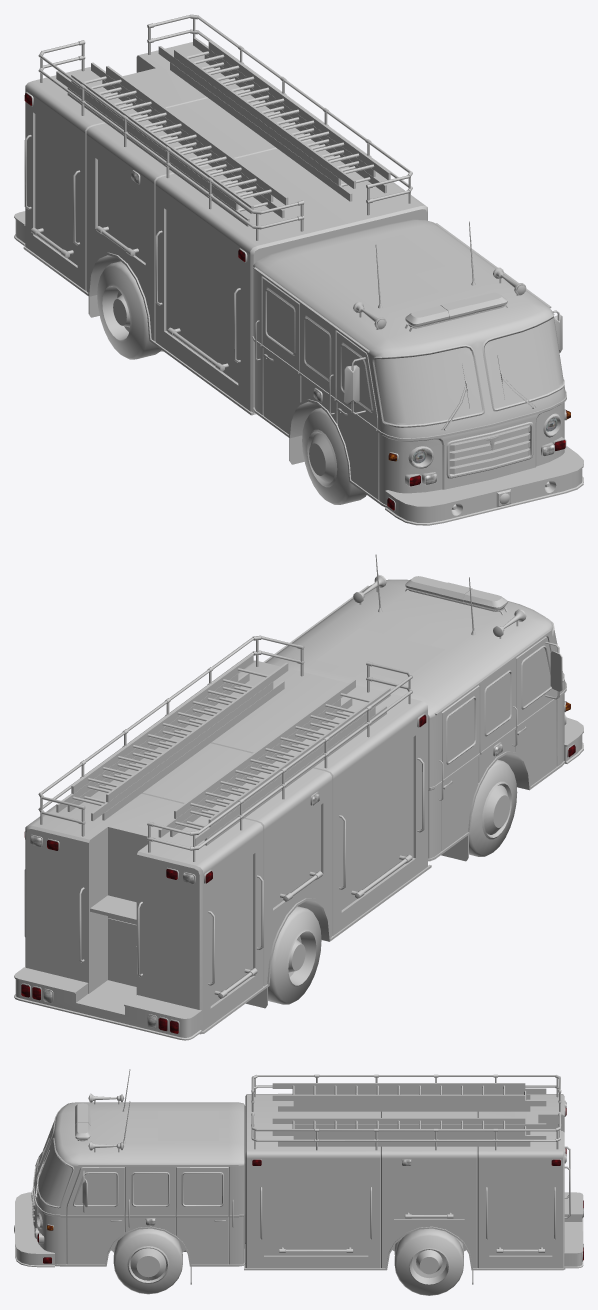
The model's file is Fire_Truck.fbx.
3 renders of one model, top to bottom at view 1: azimuth 30°, elevation 25°; view 2: azimuth 150°, elevation 25°; view 3: azimuth 270°, elevation 25°, orthographic. The views are drawn at different scales.
Visible parts, largest first — view 1: Fire_Truck; view 2: Fire_Truck; view 3: Fire_Truck.
Boxes of the visible parts, bbox=[...] form: Fire_Truck: bbox=[14, 14, 583, 525]; Fire_Truck: bbox=[14, 554, 583, 1040]; Fire_Truck: bbox=[14, 1069, 583, 1295].
Size of the model in its own units: 271 by 307 by 873.
